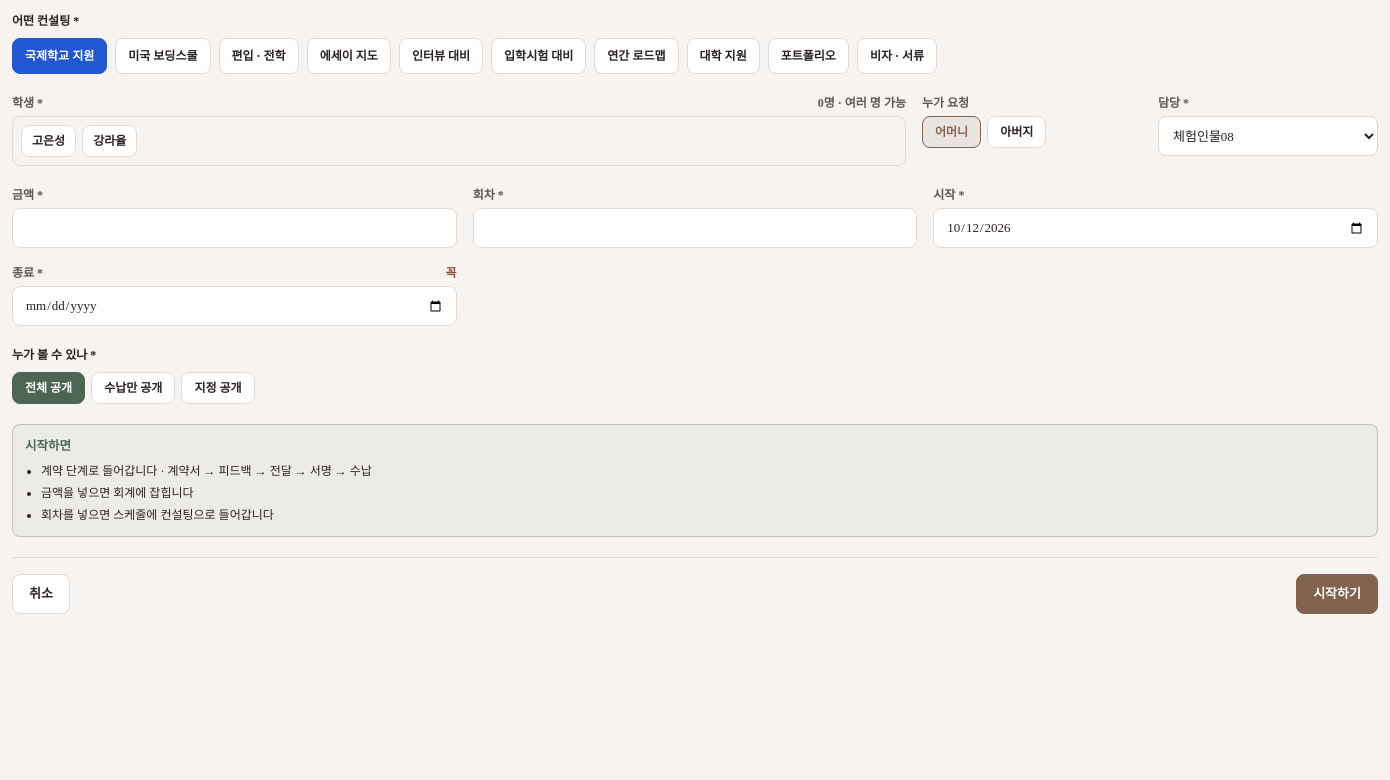
Test: ConsultingStartForm › 담당 후보에는 활성 강사를 포함하지만 지정 공개 후보에는 백오피스 사용자만 보인다
Click the button "지정 공개" at (218, 388), box [181,372,255,404]
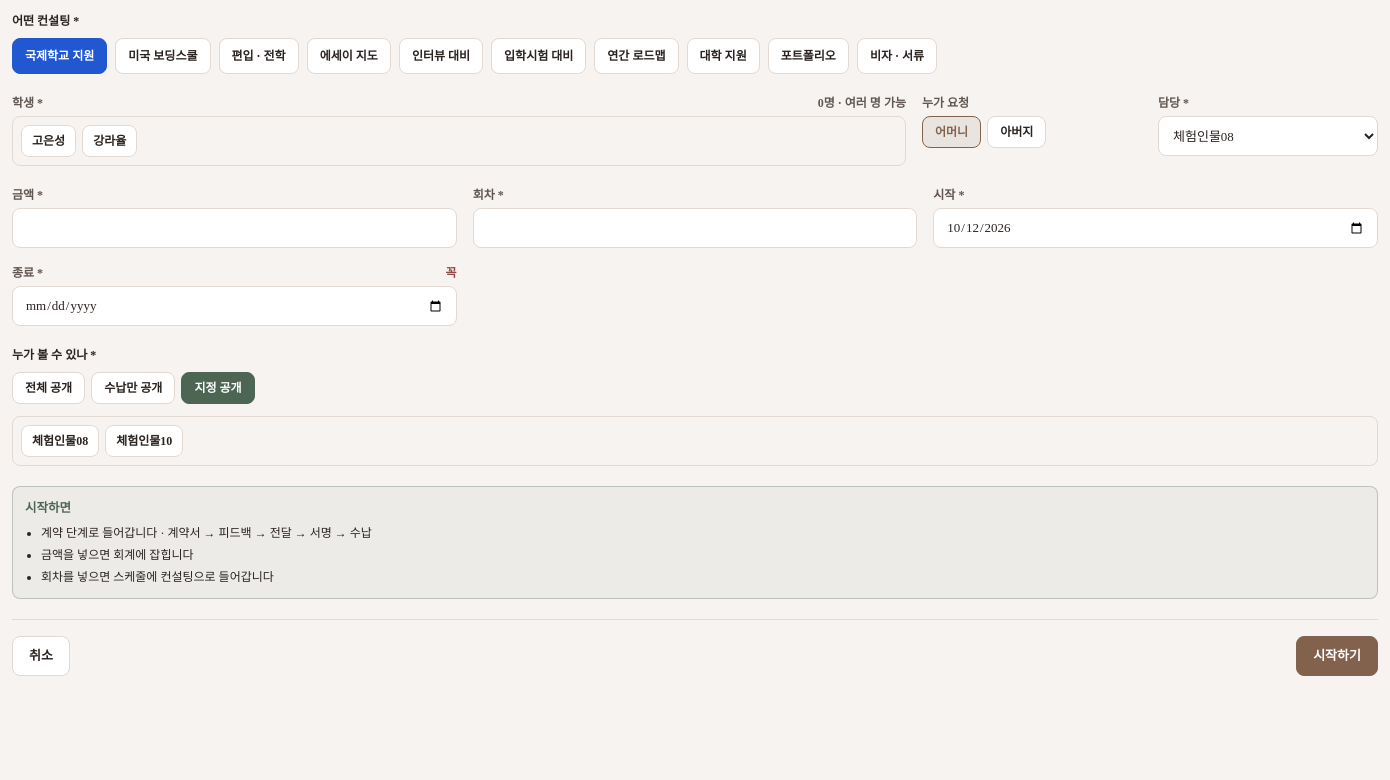
Expected: the button "체험인물08" is shown, [21,425,99,457]
